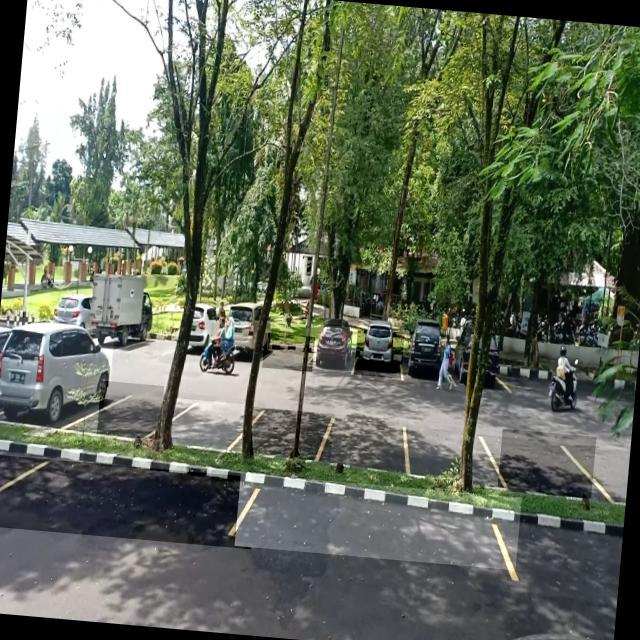empty: (234, 472, 521, 570), (0, 454, 257, 548), (479, 427, 596, 498), (400, 420, 502, 486), (321, 413, 408, 474), (249, 406, 334, 462), (170, 398, 246, 453), (96, 380, 164, 440), (262, 332, 314, 372)
occupied: (0, 315, 114, 431), (306, 323, 359, 372), (354, 329, 404, 379)
